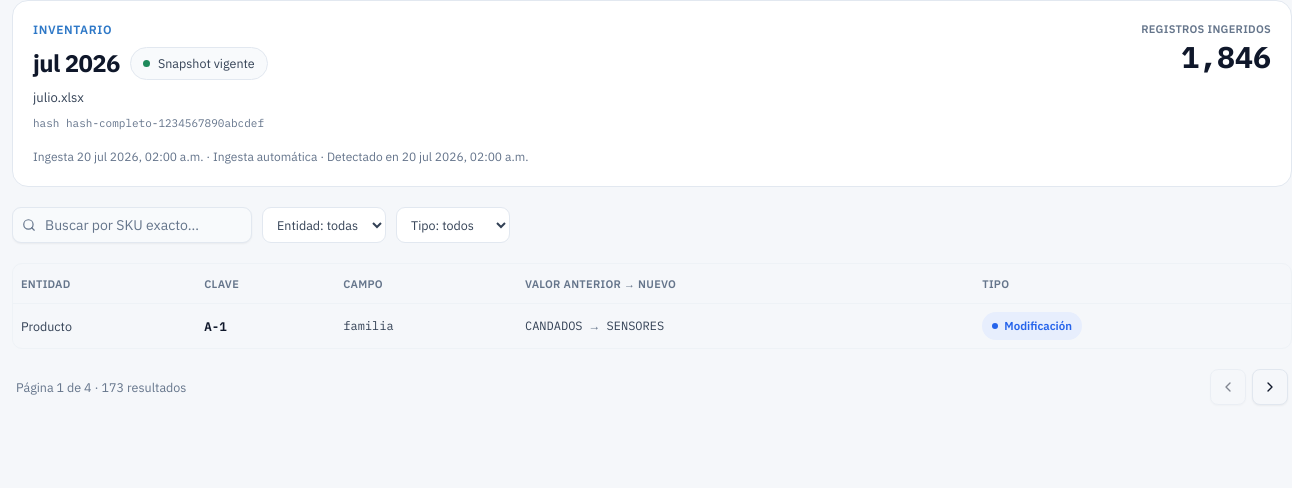
Test: CambiosView › 'mostrando X de Y' usa `resumen` SIN filtrar, no el total ya filtrado dos veces
Expected: the text "julio.xlsx" is shown, [33,89,84,106]
Select "Alta" in the 2nd dropdown named "Tipo" at (453, 225), box [396,207,510,243]
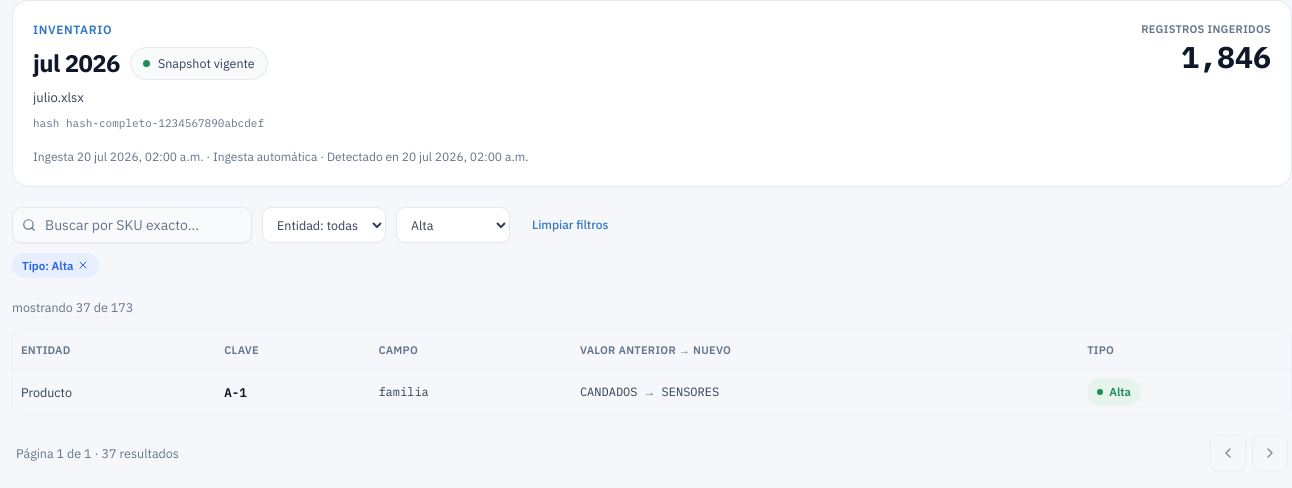
Now the text "mostrando 37 de 173" is shown, box [12,299,133,315]
